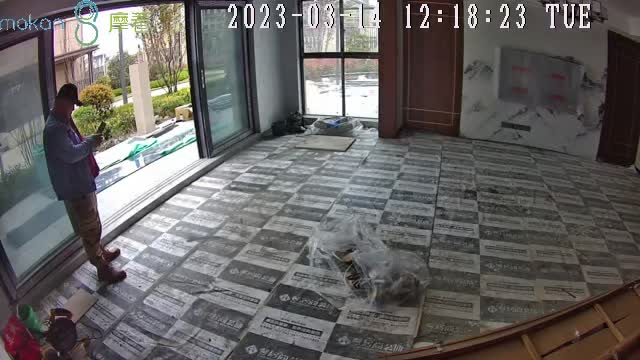people: (42, 82, 129, 284)
window: (1, 2, 256, 292), (301, 2, 380, 118)
